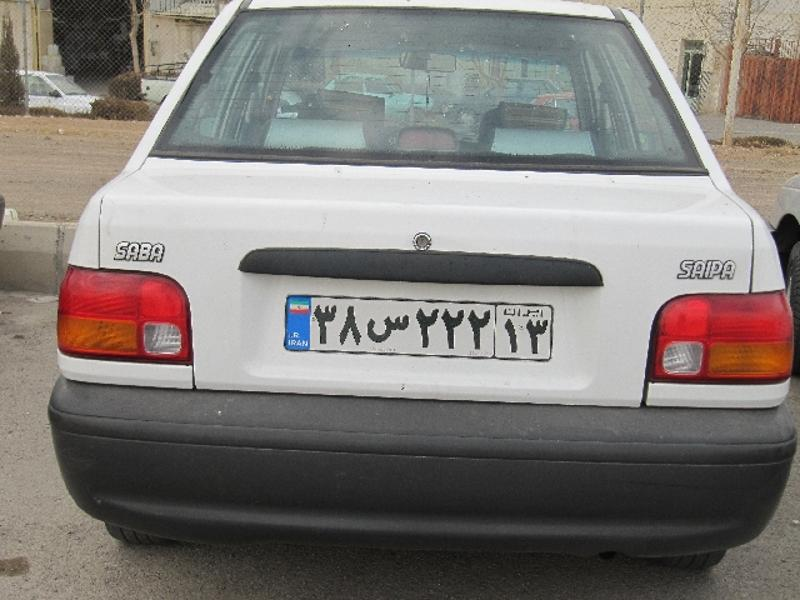Plate: (286, 288, 555, 365)
